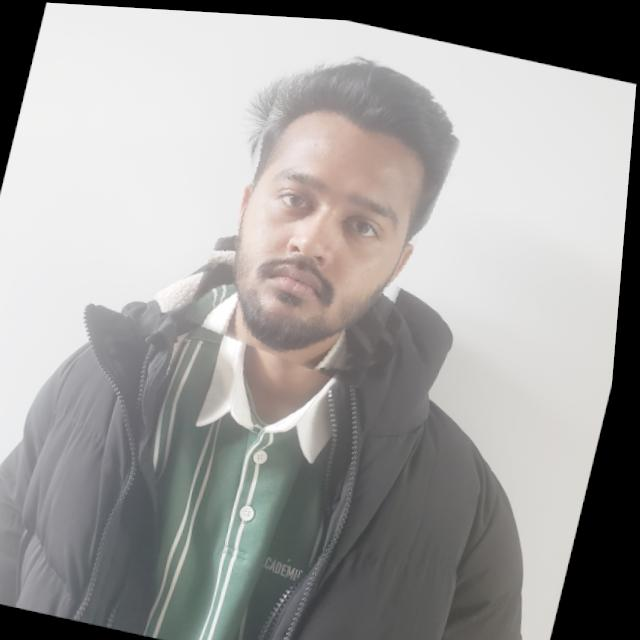sad: (194, 30, 474, 387)
